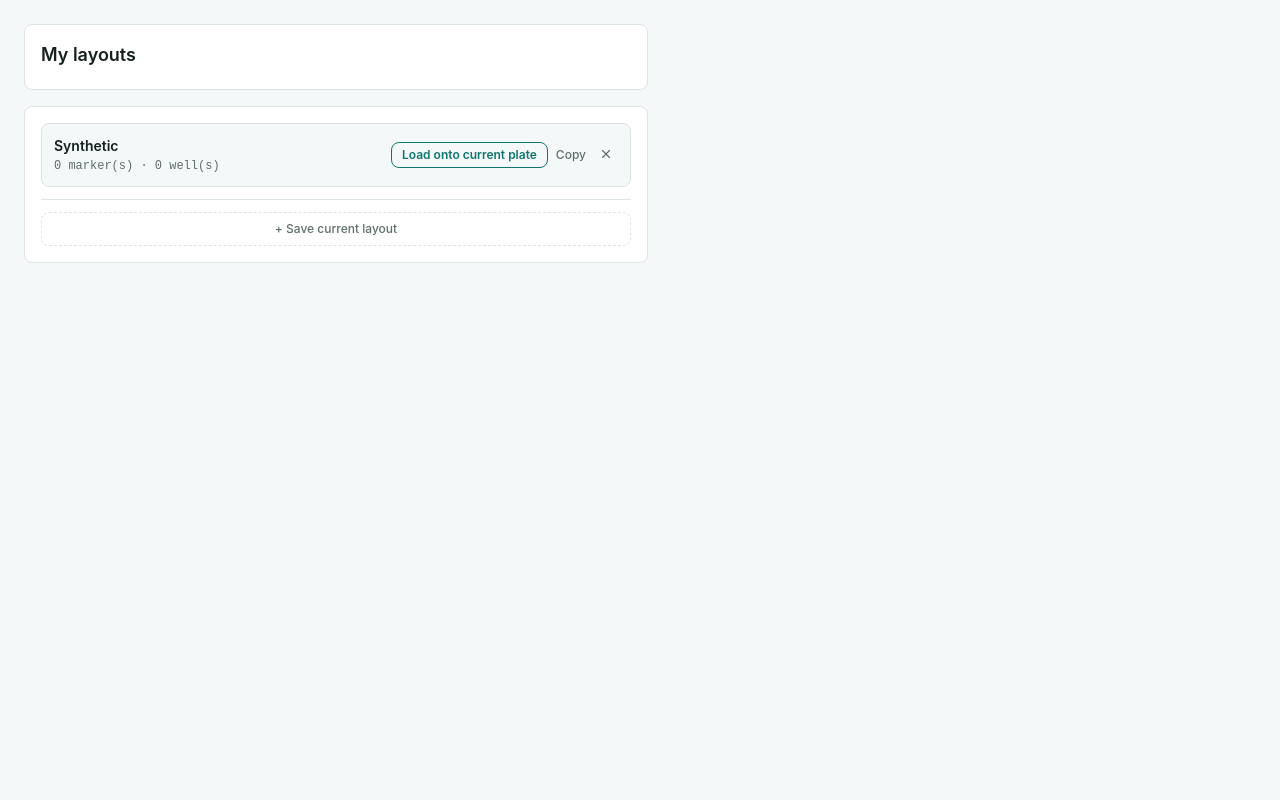
Test: dismisses an existing conflict on sid replacement without force
Click the button with test id "layout-load-button": x=469, y=155 [391,142,548,168]
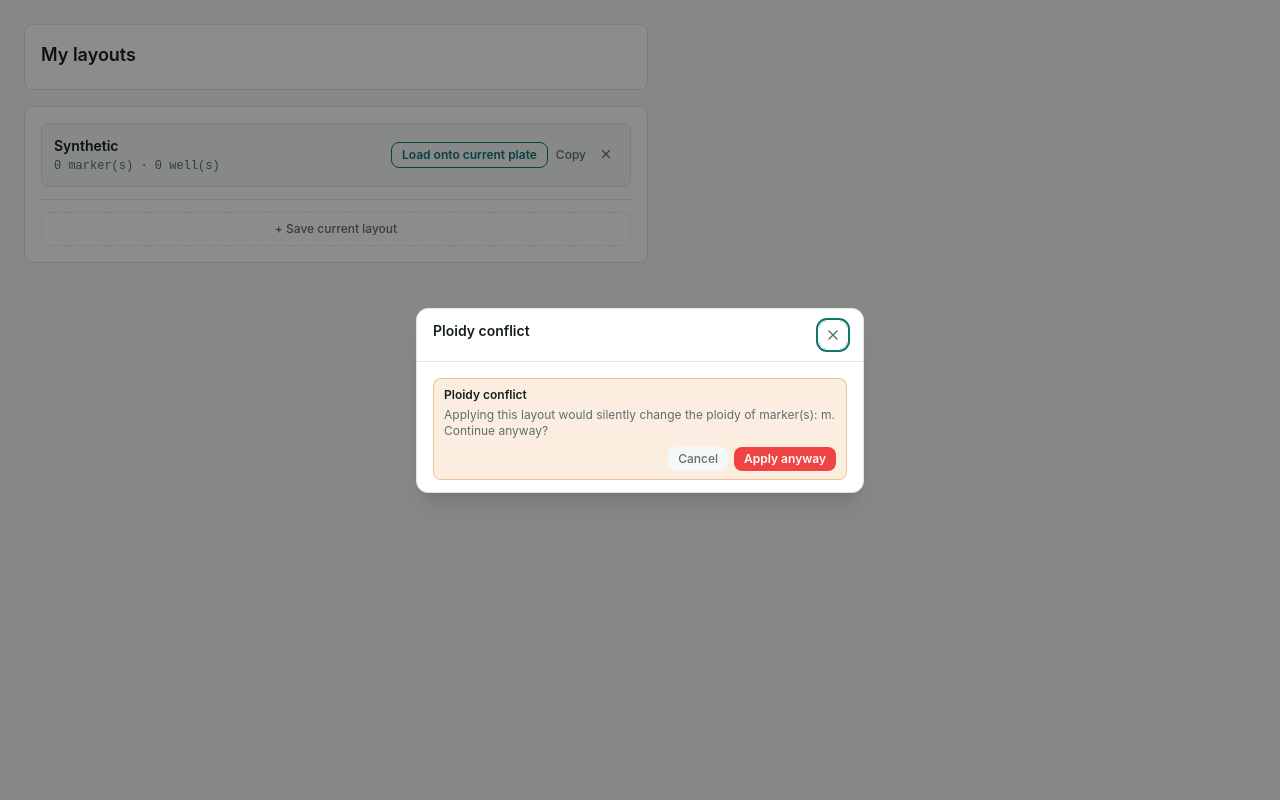
expect the dialog is shown: met, box [416,308,864,492]
